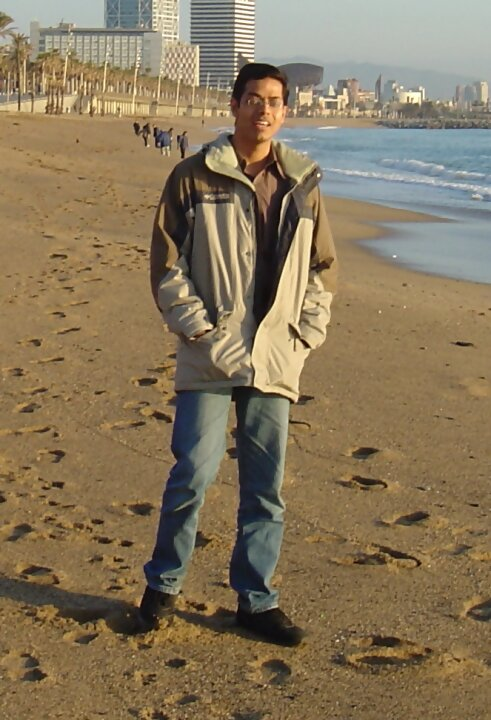person: (125, 61, 340, 657)
